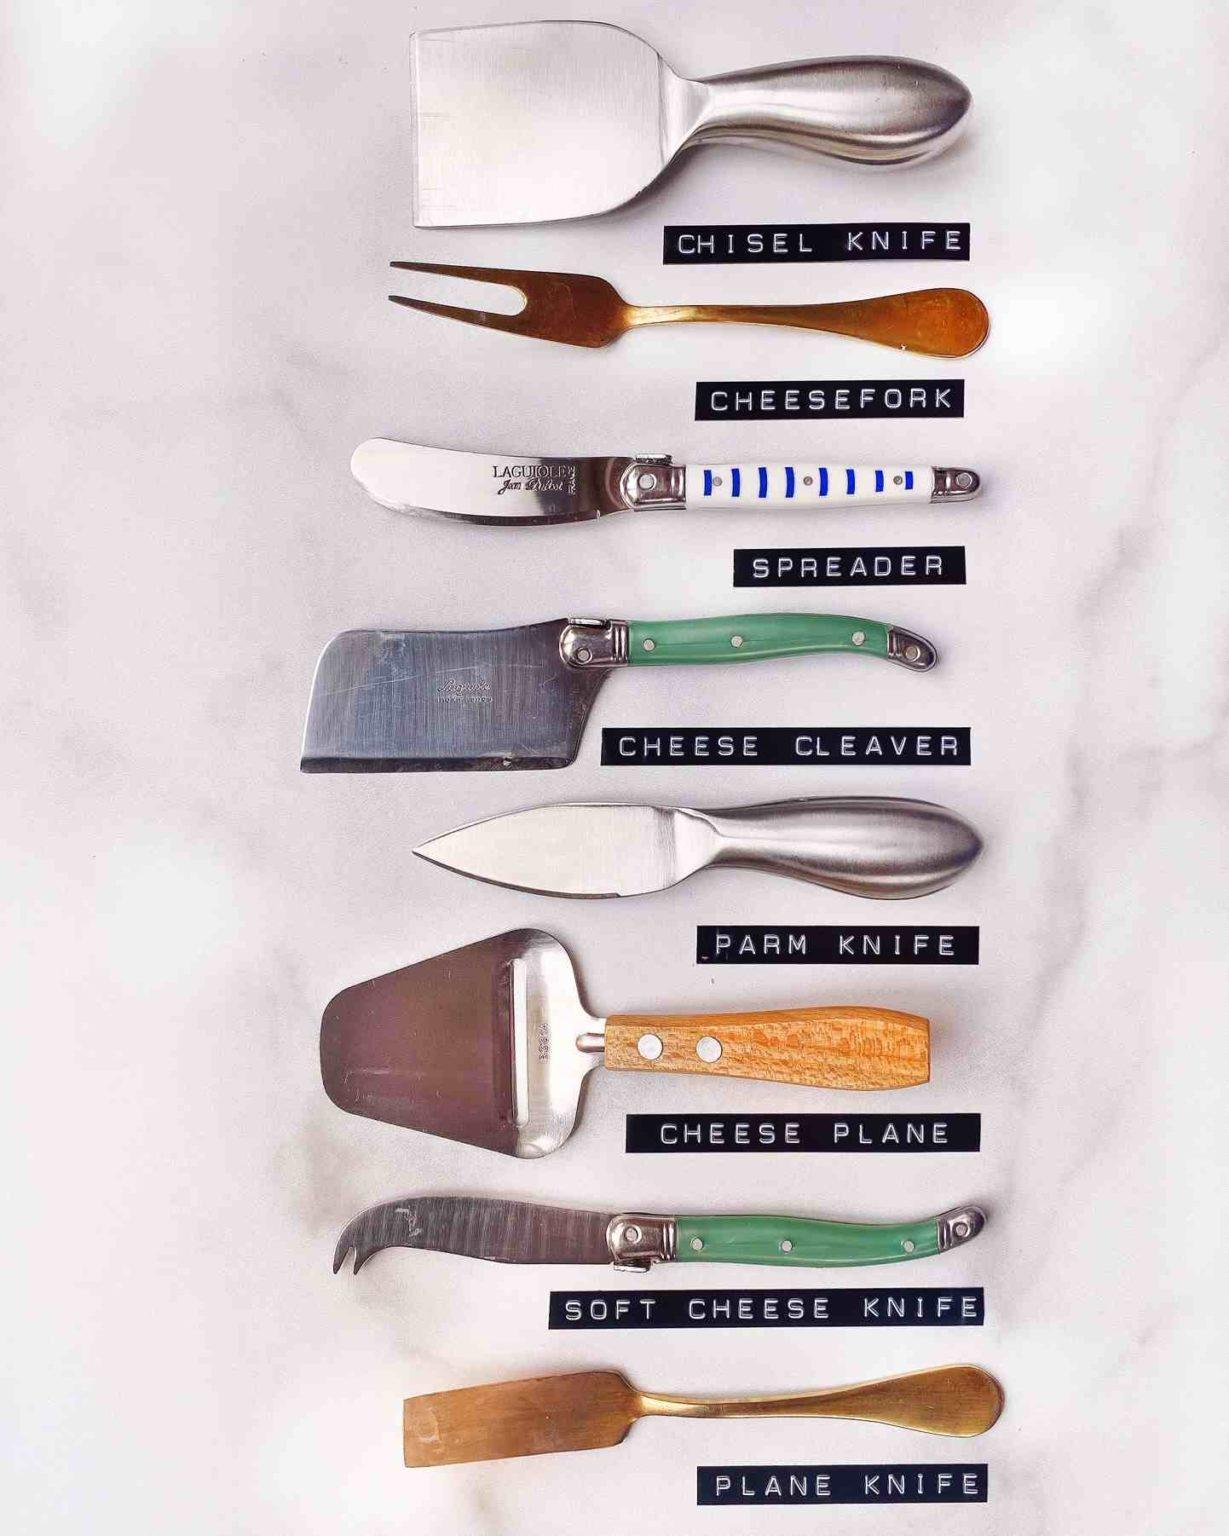faca: (416, 799, 981, 899), (351, 439, 979, 524), (334, 1196, 986, 1271)
facao: (301, 613, 936, 772)
